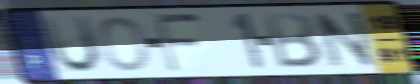1: (229, 11, 268, 73)
B: (263, 11, 325, 70)
F: (150, 11, 205, 74)
N: (311, 10, 379, 70)
O: (97, 15, 152, 73)
U: (39, 14, 103, 76)
